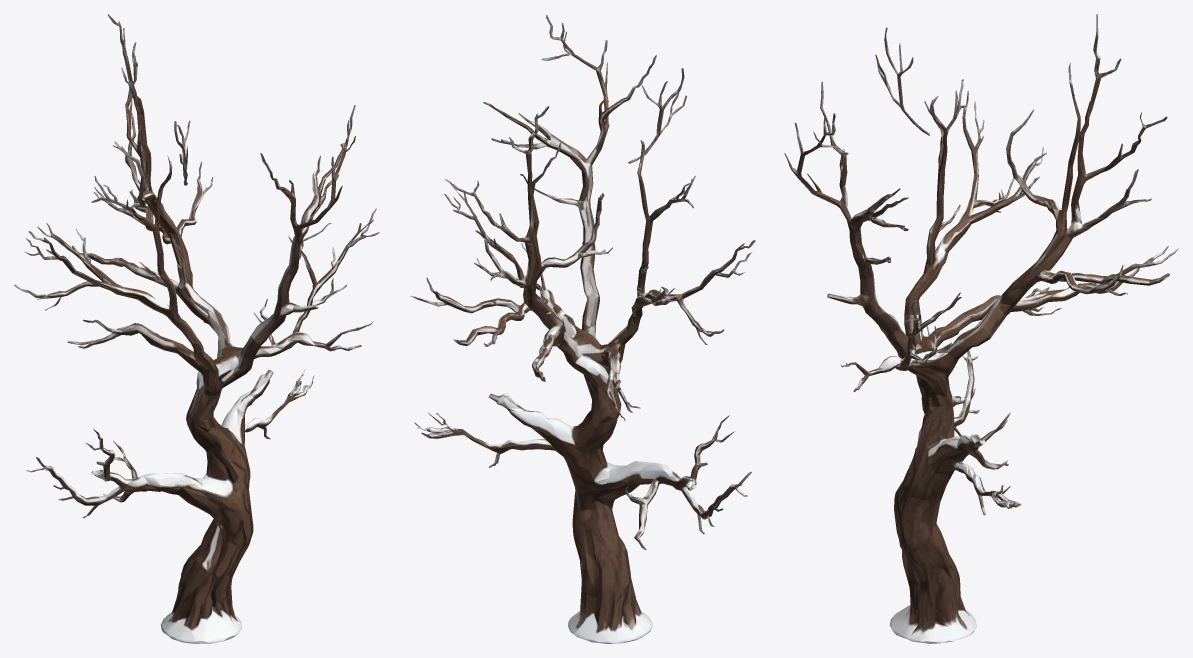
Rendered from dead_tree.glb.
3 renders of one model, left to right at view 1: azimuth 30°, elevation 25°; view 2: azimuth 150°, elevation 25°; view 3: azimuth 270°, elevation 25°, orthographic. The views are drawn at different scales.
Size of the model in its own units: 1.15 by 1.9 by 1.13.
Materials: 1 (1 with a texture image).
